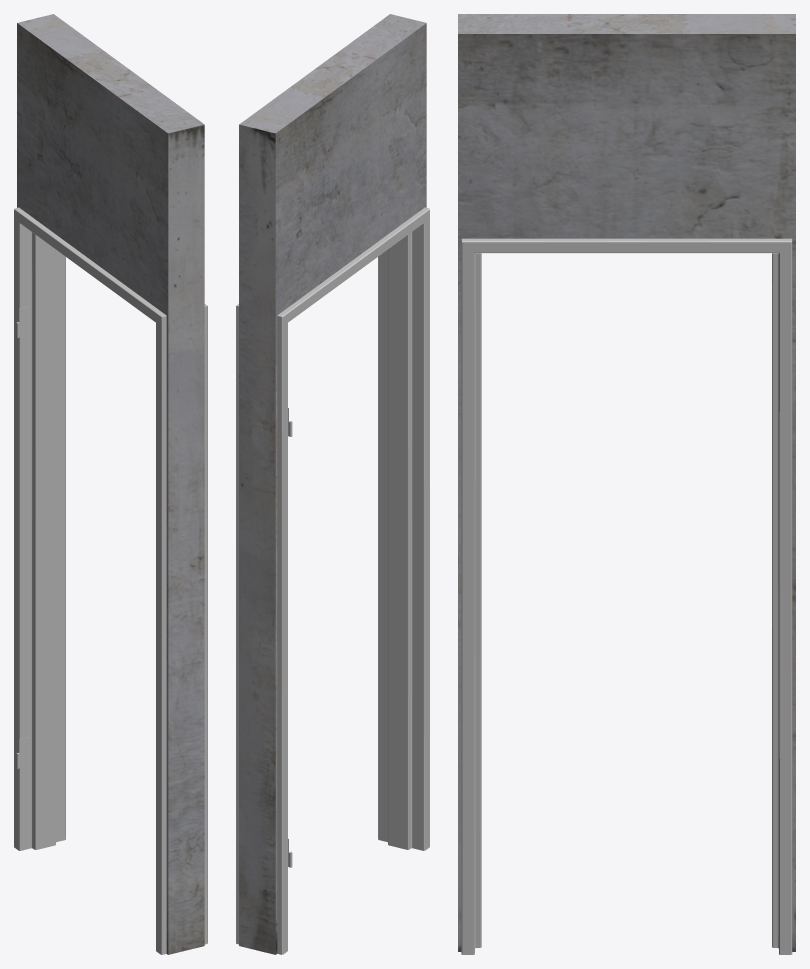
Rendered from SM_Wall_Door_100_01.fbx.
The picture shows the model from 3 angles, left to right: view 1: azimuth 30°, elevation 25°; view 2: azimuth 150°, elevation 25°; view 3: azimuth 270°, elevation 25°; orthographic projection. The views are drawn at different scales.
Visible parts, largest first — view 1: SM_Wall_Door_100_01_LOD0; view 2: SM_Wall_Door_100_01_LOD0; view 3: SM_Wall_Door_100_01_LOD0.
Part boxes in pixels (box(x1,y1,x2,y2)): SM_Wall_Door_100_01_LOD0: box(14, 14, 207, 954); SM_Wall_Door_100_01_LOD0: box(236, 14, 429, 954); SM_Wall_Door_100_01_LOD0: box(458, 14, 795, 954).
Bounding box in the file's own units: 19.2 × 100 × 300.
